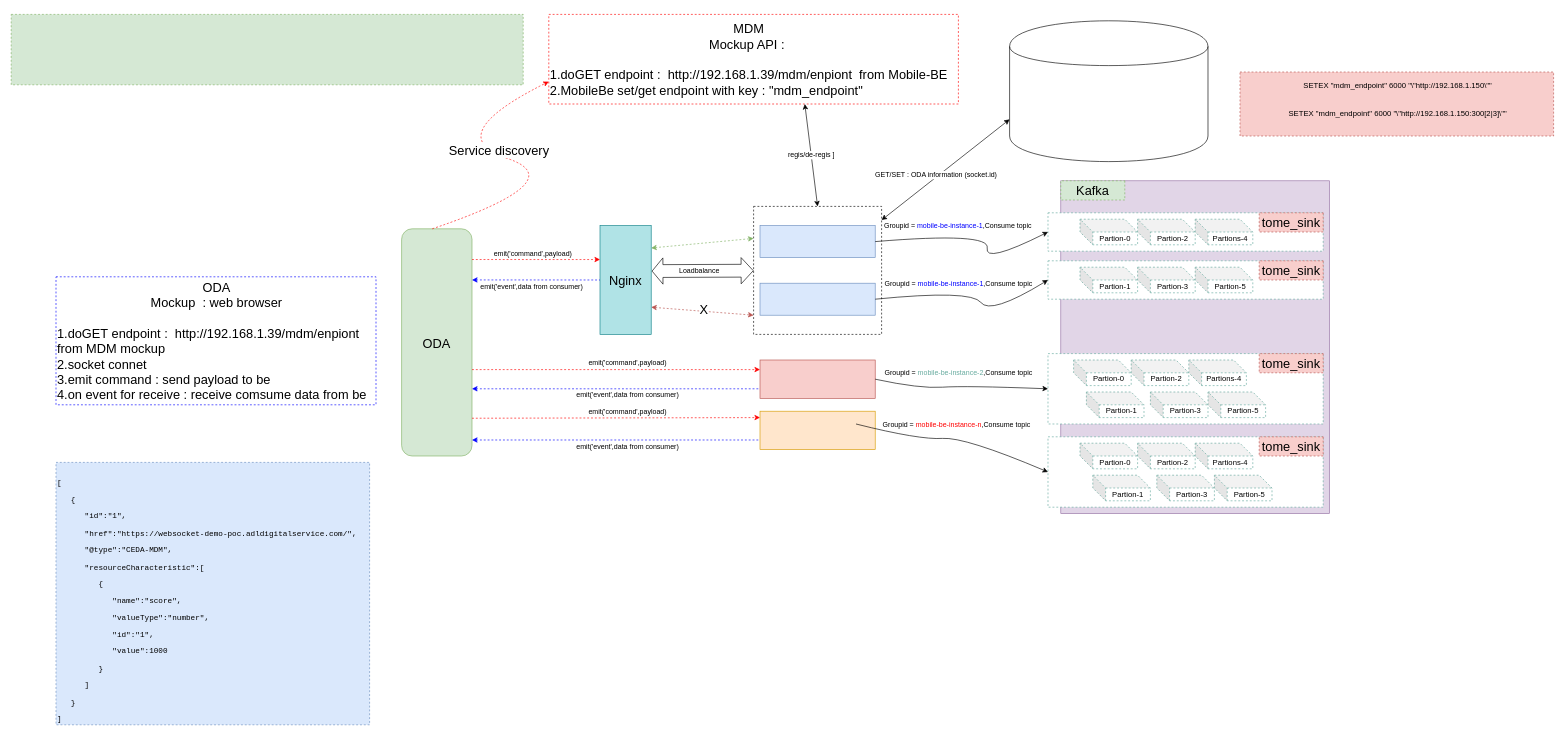
The diagram is 1565 pixels wide and 743 high, and some of its shapes have lost their labels. Each missing label, with the centre of its shape:
"Mobile BackEnd : Architecture and Scenario Test" belongs at point 267,49.
"Mobile-BE1-1 192.168.1.39:3000" belongs at point 817,241.
"Mobile-BE1-2 192.168.1.39:3001" belongs at point 817,299.
"Mobile-BE2 192.168.1.39:3002" belongs at point 817,378.
"Mobile-BEn 192.168.1.39:300n" belongs at point 817,430.
"Redis (Cache) OSR provide endpoint ip = ? port = ?" belongs at point 1108,91.
